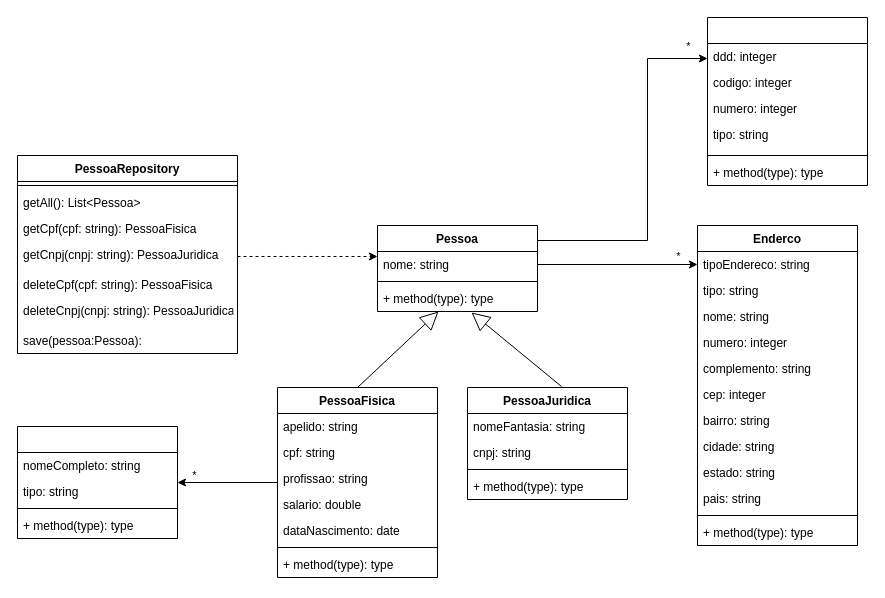
Image size: 885x598. Some labels were removed from this diagram. Here are the shapes that lost their labels. From the top down, the box of each, then its label:
(706, 16, 868, 186): Telefone
(16, 426, 178, 538): Dependente
